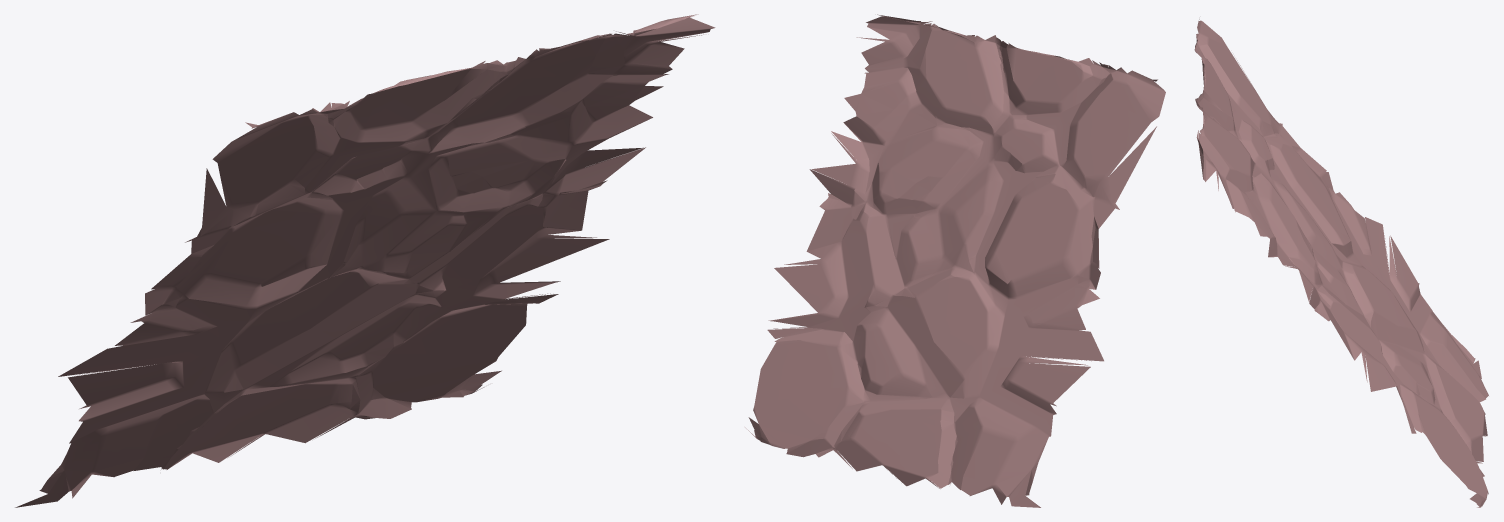
File: plateau.fbx_Rock_Plateau_027LODs.fbx
3 renders of one model, left to right at view 1: azimuth 30°, elevation 25°; view 2: azimuth 150°, elevation 25°; view 3: azimuth 270°, elevation 25°, orthographic. The views are drawn at different scales.
Visible parts, largest first — view 1: Rock Plateau.027_LOD0; view 2: Rock Plateau.027_LOD0; view 3: Rock Plateau.027_LOD0.
Boxes of the visible parts, x1,y1,x2,y2 form: Rock Plateau.027_LOD0: [15, 14, 715, 507]; Rock Plateau.027_LOD0: [745, 14, 1165, 507]; Rock Plateau.027_LOD0: [1194, 19, 1488, 507].
Size of what is drawn, in the model's own units: 3164 by 3059 by 2249.
